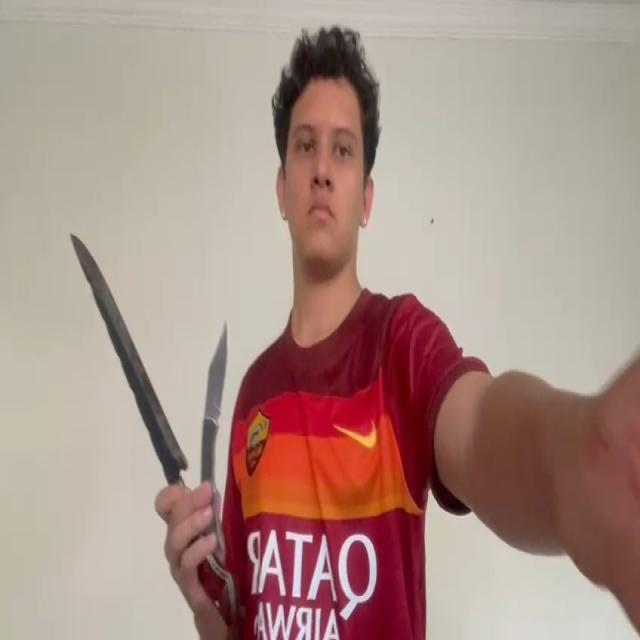knife: (70, 233, 188, 472), (201, 320, 229, 424)
